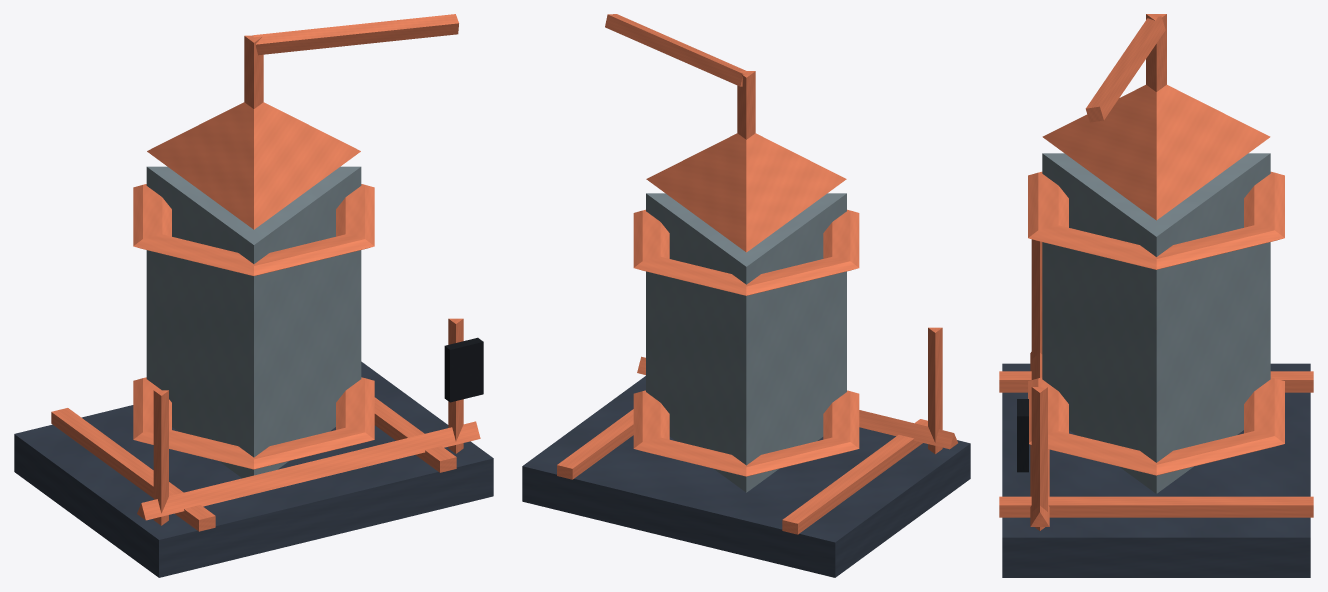
Rendered from atlas100-s029-a02.lod2.glb.
3 views of the same model, side by side, from view 1: azimuth 30°, elevation 25°; view 2: azimuth 150°, elevation 25°; view 3: azimuth 270°, elevation 25° (orthographic). The views are drawn at different scales.
Visible parts, largest first — view 1: atlas100-s029-a02:part-003, atlas100-s029-a02:part-000, atlas100-s029-a02:part-007, atlas100-s029-a02:part-005, atlas100-s029-a02:part-004, atlas100-s029-a02:part-014, atlas100-s029-a02:part-009, atlas100-s029-a02:part-001, atlas100-s029-a02:part-013, atlas100-s029-a02:part-010, atlas100-s029-a02:part-002, atlas100-s029-a02:part-008 (+1 smaller); view 2: atlas100-s029-a02:part-003, atlas100-s029-a02:part-000, atlas100-s029-a02:part-007, atlas100-s029-a02:part-004, atlas100-s029-a02:part-005, atlas100-s029-a02:part-001, atlas100-s029-a02:part-009, atlas100-s029-a02:part-002, atlas100-s029-a02:part-014, atlas100-s029-a02:part-010, atlas100-s029-a02:part-008; view 3: atlas100-s029-a02:part-003, atlas100-s029-a02:part-000, atlas100-s029-a02:part-007, atlas100-s029-a02:part-005, atlas100-s029-a02:part-004, atlas100-s029-a02:part-002, atlas100-s029-a02:part-009, atlas100-s029-a02:part-012, atlas100-s029-a02:part-001, atlas100-s029-a02:part-010, atlas100-s029-a02:part-008, atlas100-s029-a02:part-014 (+1 smaller).
Boxes of the visible parts, <box> form: atlas100-s029-a02:part-003: <box>146,166,361,478</box>; atlas100-s029-a02:part-000: <box>14,361,493,577</box>; atlas100-s029-a02:part-007: <box>147,102,360,229</box>; atlas100-s029-a02:part-005: <box>133,184,374,275</box>; atlas100-s029-a02:part-004: <box>133,377,374,469</box>; atlas100-s029-a02:part-014: <box>137,421,480,520</box>; atlas100-s029-a02:part-009: <box>252,14,458,55</box>; atlas100-s029-a02:part-001: <box>51,408,215,531</box>; atlas100-s029-a02:part-013: <box>444,337,483,402</box>; atlas100-s029-a02:part-010: <box>153,390,168,525</box>; atlas100-s029-a02:part-002: <box>374,397,456,472</box>; atlas100-s029-a02:part-008: <box>244,35,263,108</box>; atlas100-s029-a02:part-003: <box>646,193,846,492</box>; atlas100-s029-a02:part-000: <box>522,376,970,577</box>; atlas100-s029-a02:part-007: <box>646,133,846,252</box>; atlas100-s029-a02:part-004: <box>633,390,859,476</box>; atlas100-s029-a02:part-005: <box>633,209,859,295</box>; atlas100-s029-a02:part-001: <box>782,419,927,534</box>; atlas100-s029-a02:part-009: <box>605,14,745,86</box>; atlas100-s029-a02:part-002: <box>557,409,633,479</box>; atlas100-s029-a02:part-014: <box>637,356,957,449</box>; atlas100-s029-a02:part-010: <box>928,327,942,454</box>; atlas100-s029-a02:part-008: <box>737,71,755,139</box>; atlas100-s029-a02:part-003: <box>1042,153,1270,493</box>; atlas100-s029-a02:part-000: <box>1002,363,1310,577</box>; atlas100-s029-a02:part-007: <box>1042,85,1270,220</box>; atlas100-s029-a02:part-005: <box>1028,171,1284,269</box>; atlas100-s029-a02:part-004: <box>1028,377,1284,475</box>; atlas100-s029-a02:part-002: <box>999,496,1313,517</box>; atlas100-s029-a02:part-009: <box>1085,16,1165,122</box>; atlas100-s029-a02:part-012: <box>1031,387,1047,530</box>; atlas100-s029-a02:part-001: <box>999,371,1313,392</box>; atlas100-s029-a02:part-010: <box>1031,239,1042,358</box>; atlas100-s029-a02:part-008: <box>1146,14,1166,91</box>; atlas100-s029-a02:part-014: <box>1030,352,1049,526</box>.
Bounding box in the file's own units: 2.46 × 3.06 × 1.84.
5 materials, 5 textured.
